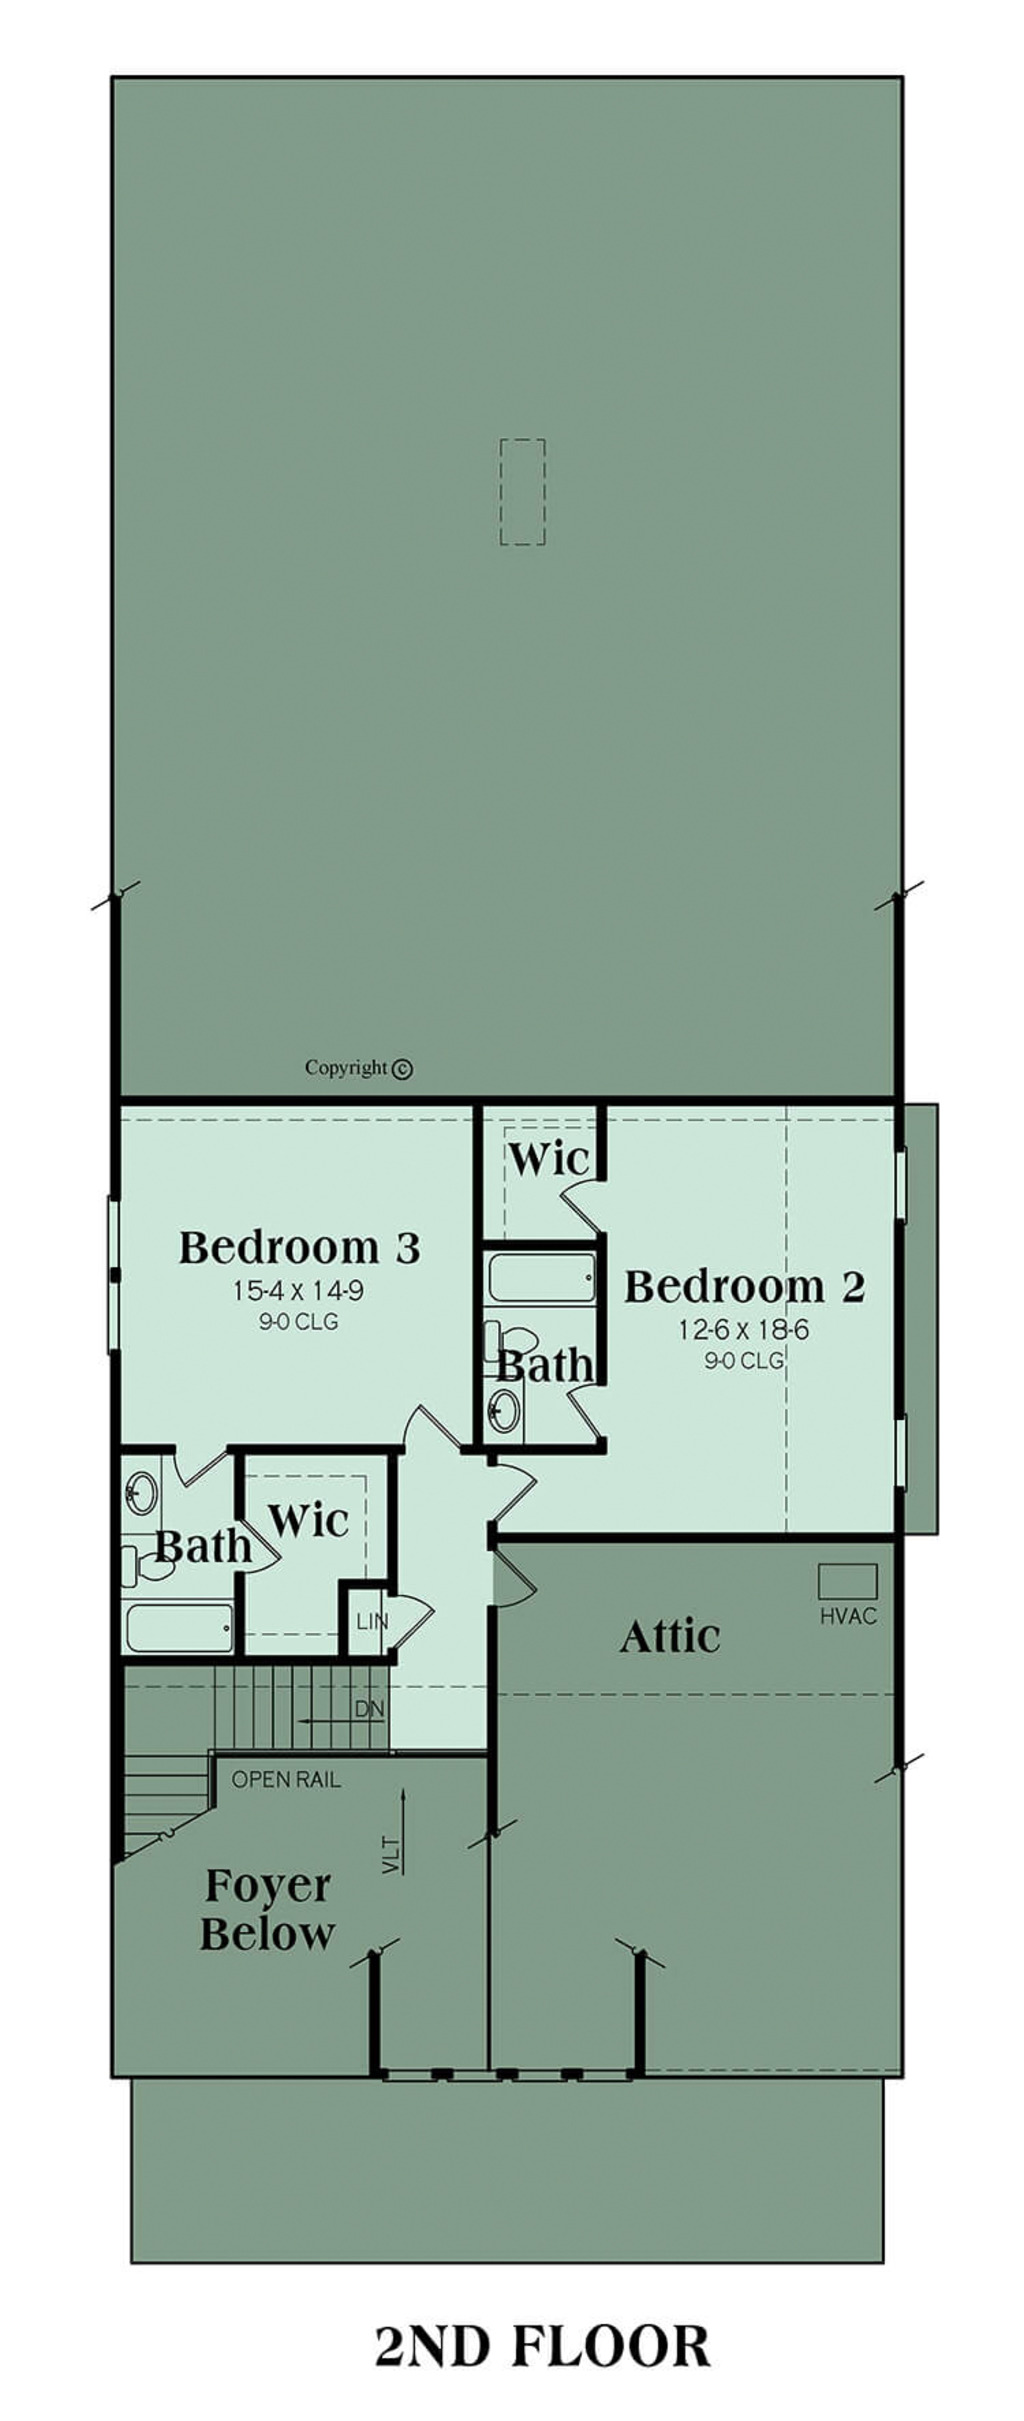door: (161, 1424, 241, 1508), (388, 1393, 468, 1465), (551, 1170, 646, 1231), (479, 1542, 551, 1612), (471, 1458, 537, 1532), (564, 1373, 626, 1444), (391, 1586, 448, 1654), (233, 1512, 287, 1576)
large_sink: (476, 1315, 561, 1370), (117, 1535, 187, 1597)
stairs: (107, 1661, 409, 1878)
tub: (97, 1589, 249, 1661), (468, 1251, 618, 1305)
window: (883, 1132, 928, 1251), (883, 1413, 921, 1539)
